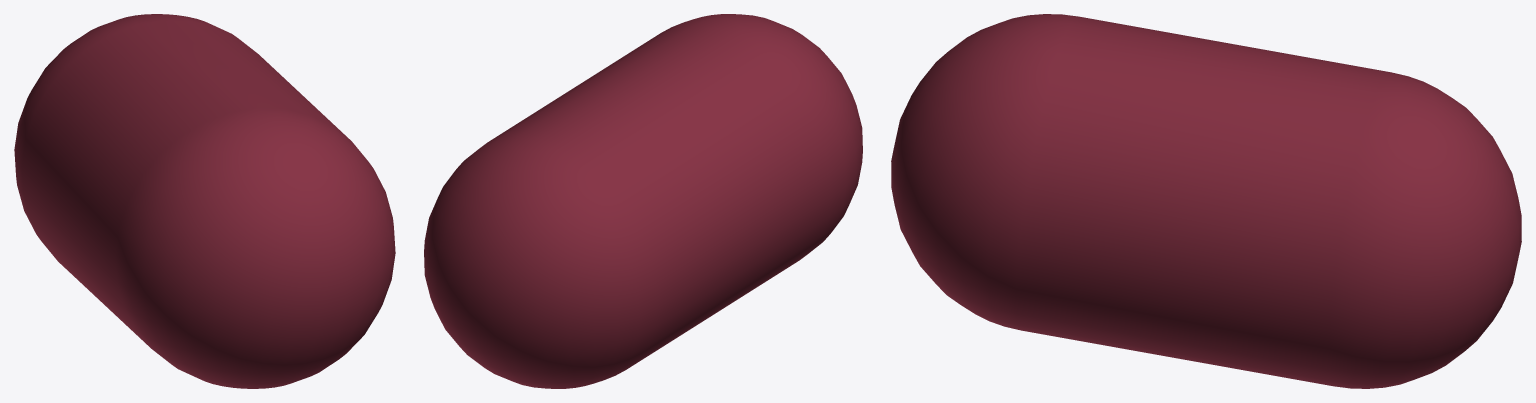
File: singlebacillus.glb
3 renders of one model, left to right at view 1: azimuth 30°, elevation 25°; view 2: azimuth 150°, elevation 25°; view 3: azimuth 270°, elevation 25°, orthographic. The views are drawn at different scales.
Visible parts, largest first — view 1: Sphere; view 2: Sphere; view 3: Sphere.
Boxes of the visible parts, <box> form: Sphere: <box>14,14,395,388</box>; Sphere: <box>424,14,862,388</box>; Sphere: <box>891,14,1521,388</box>.
Size of the model in its own units: 2.94 by 2.73 by 4.9.
